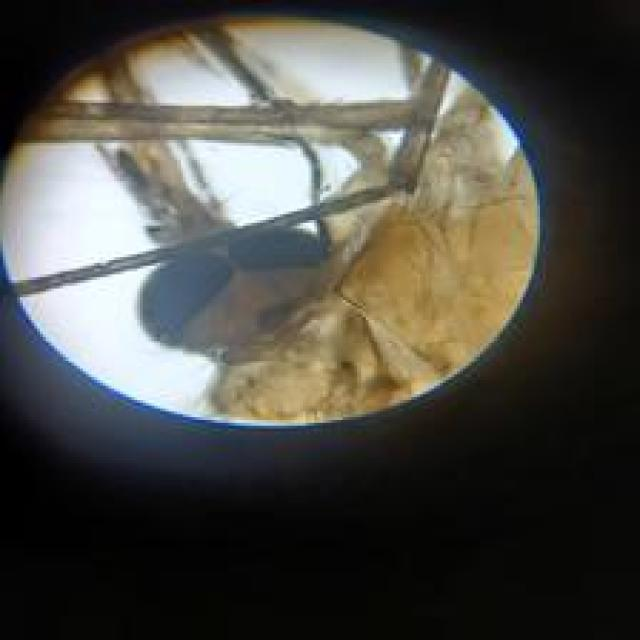Culex: (0, 14, 543, 429)
